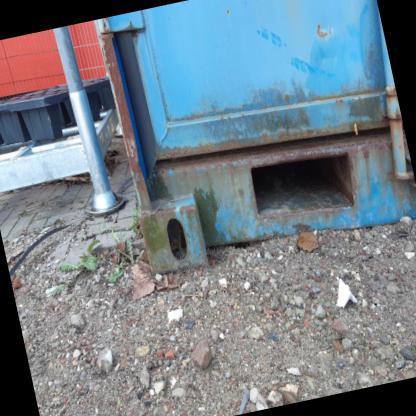CornerCasting: (128, 187, 214, 282)
